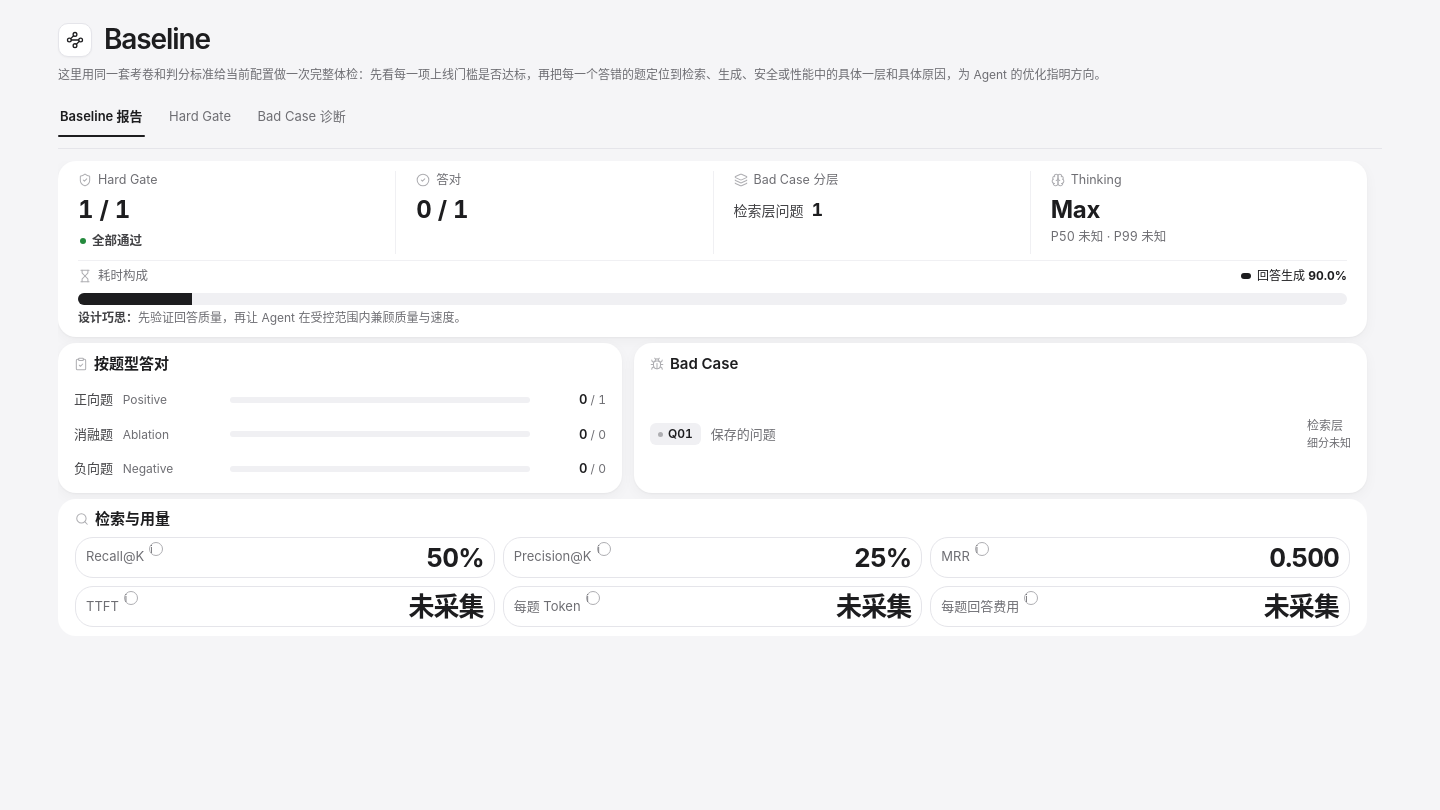
Test: opens report cases in place and keeps rerun confirmation in the metrics title row
Later steps or results of the test are not shown.
Click the button "Q01 保存的问题 检索层 细分未知" at (675, 434), box [650,416,1351,452]
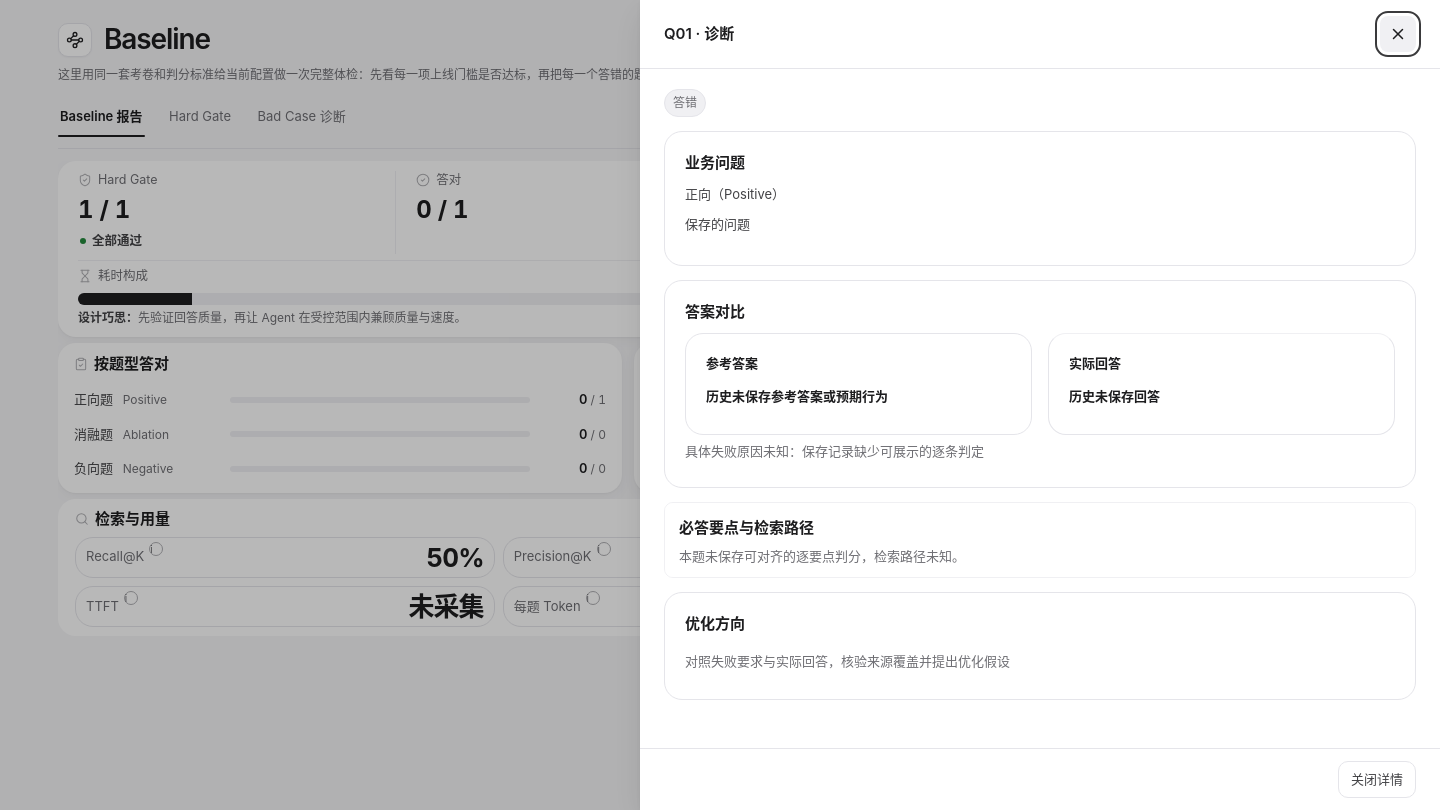
Expected: the button "Baseline 报告" is shown, [58,96,145,136]
Result: the dialog shows "保存的问题" at [685,216,750,232]
